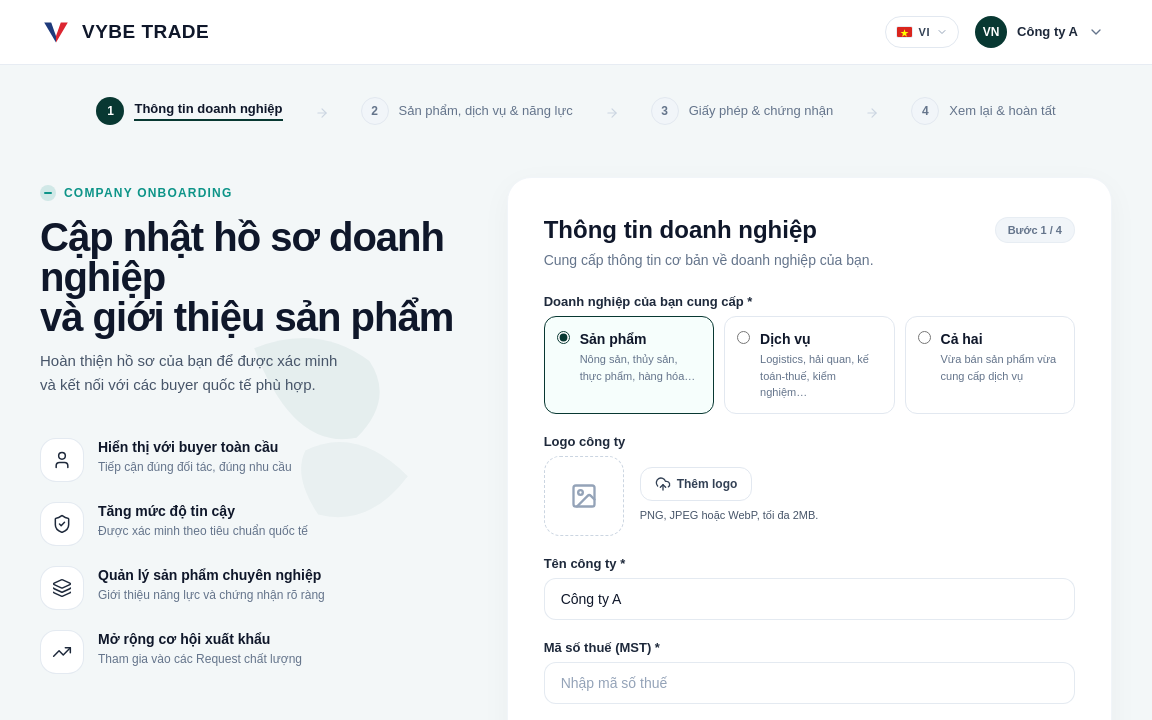
Scenario: A2 — wizard lưu nháp từng bước › bước 1: lưu lỗi thì ở lại bước 1 và báo lỗi
The width and height of the screenshot is (1152, 720).
Type "0312345678" into the field with placeholder "Nhập mã số thuế". click: (809, 682)
box: [544,662,1075,704]
(page scrolled)
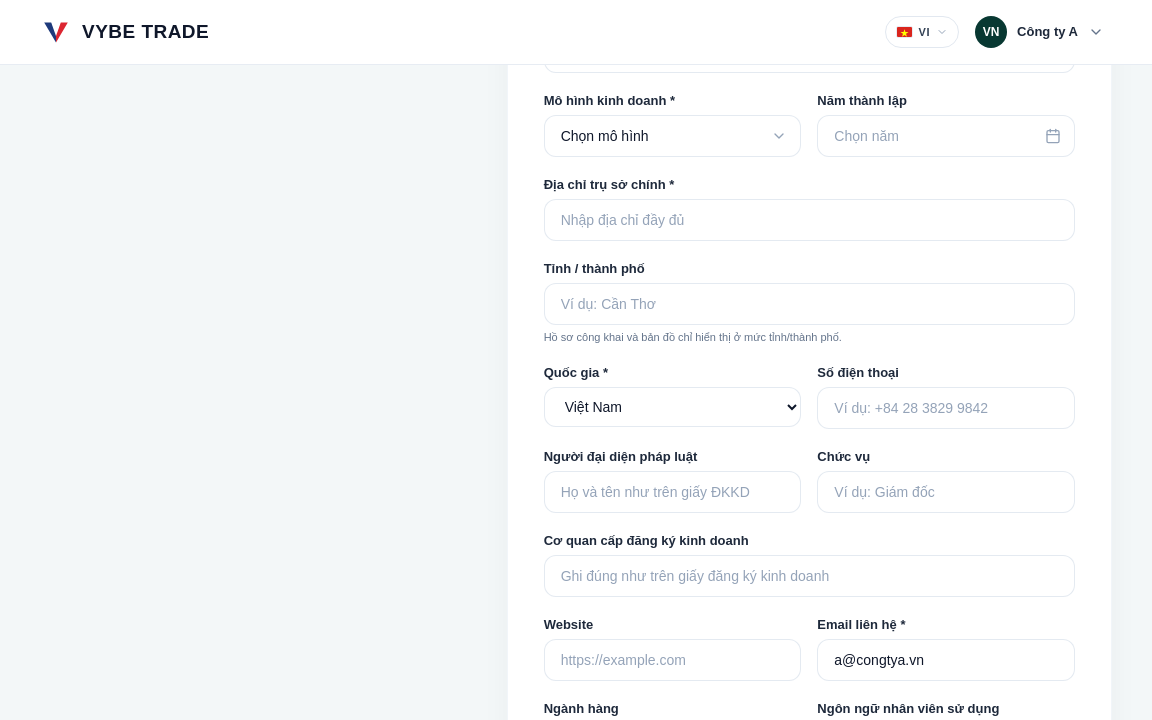
Submit the form with placeholder "Nhập mã số thuế"
(page scrolled)
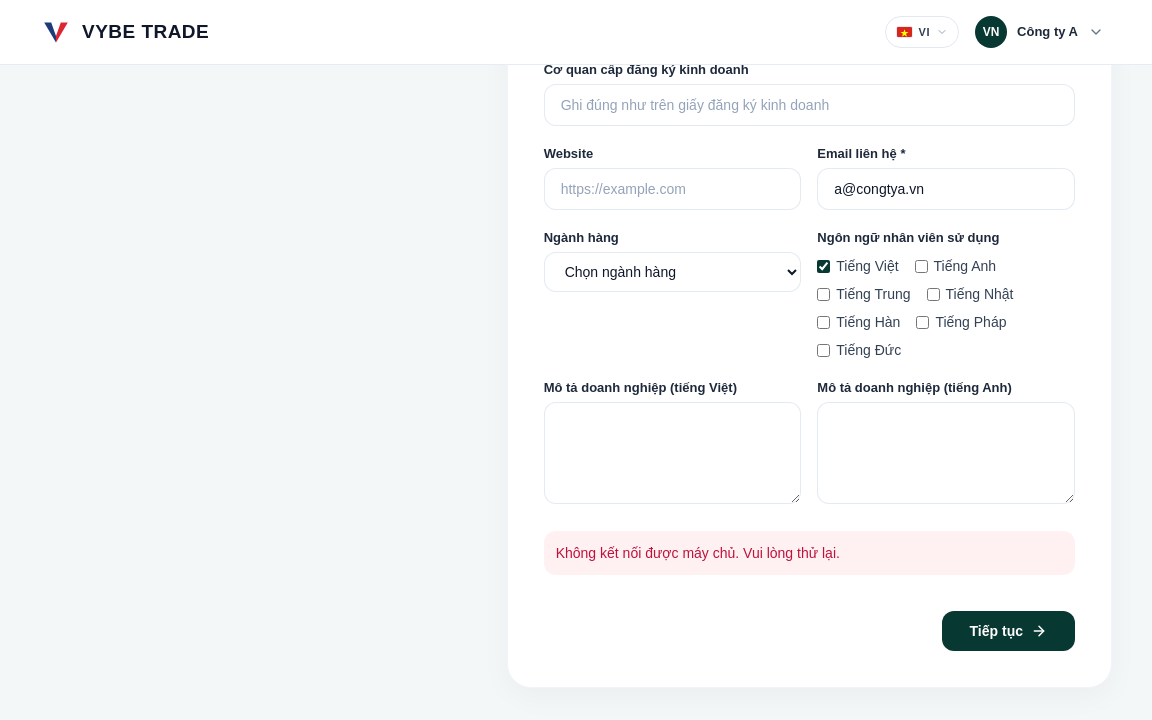
Now the message shows "Không kết nối được máy chủ", box [556,545,840,561]
